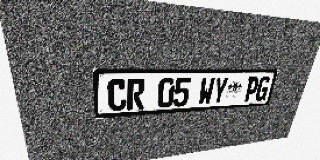0: (157, 78, 175, 108)
5: (173, 78, 191, 107)
C: (107, 79, 127, 112)
G: (254, 76, 271, 101)
P: (243, 76, 260, 102)
R: (127, 78, 145, 110)
W: (197, 77, 215, 105)
Y: (211, 77, 229, 104)
